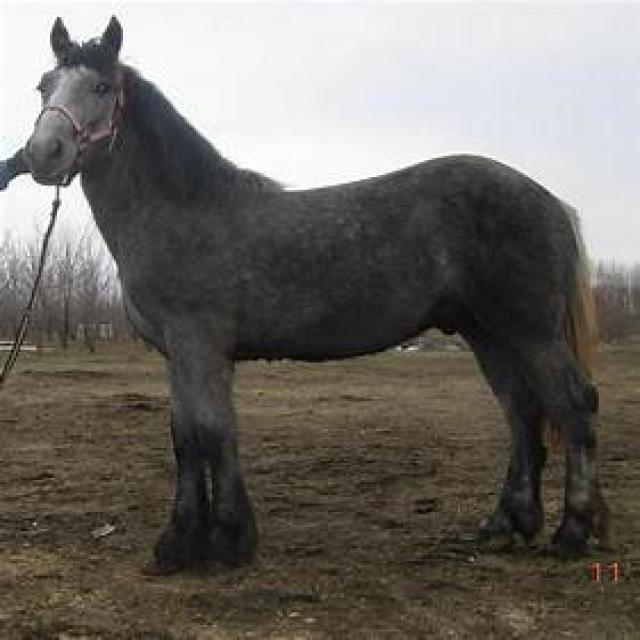horse: (0, 17, 610, 576)
